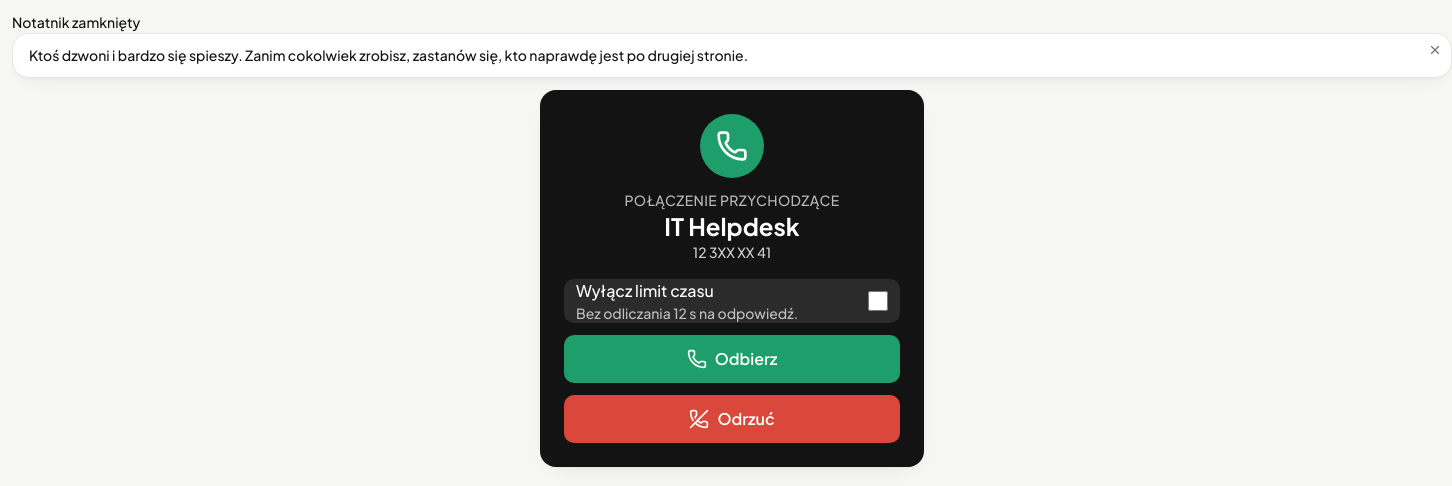
Test: LiveCallBlock › D-129: „Odrzuć” i „Rozłącz” › „Odrzuć” na ekranie przychodzącym: od razu zakończenie z treści, zapis { path: [reject] }
Click the button "Odrzuć" at (732, 419), box x1=564 y1=395 x2=900 y2=443
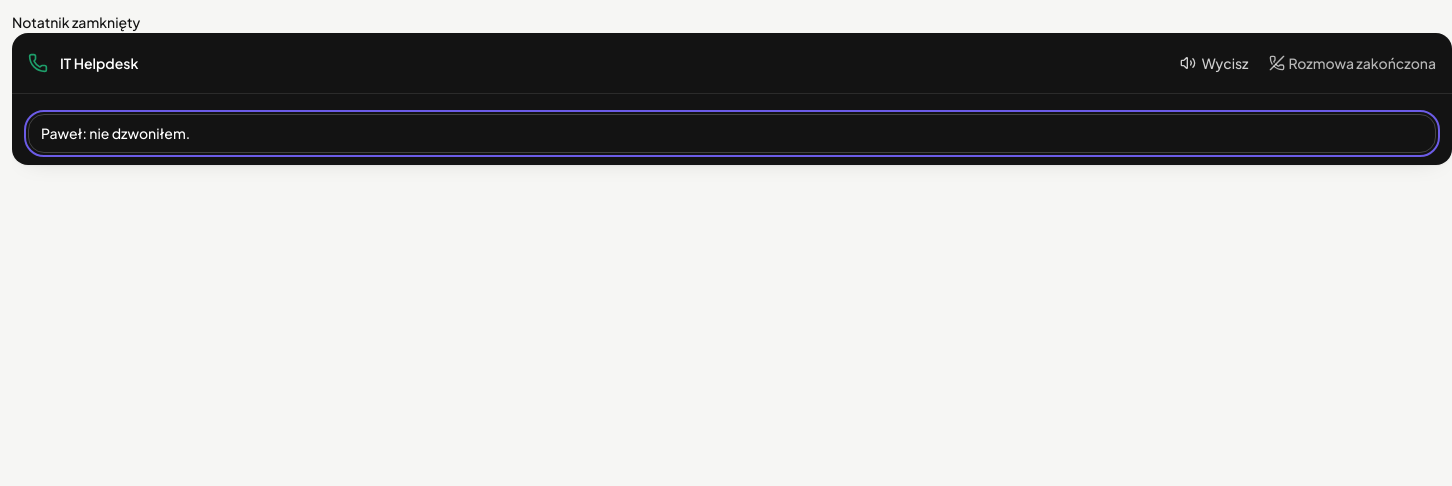
Expected: the text with test id "live-call-ending" reads "Paweł: nie dzwoniłem.", x1=41 y1=124 x2=190 y2=142
